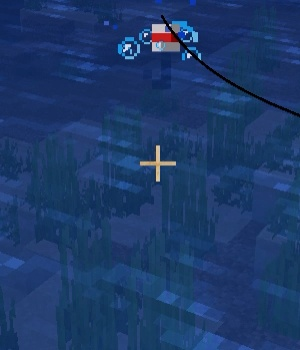up: (147, 20, 193, 97)
